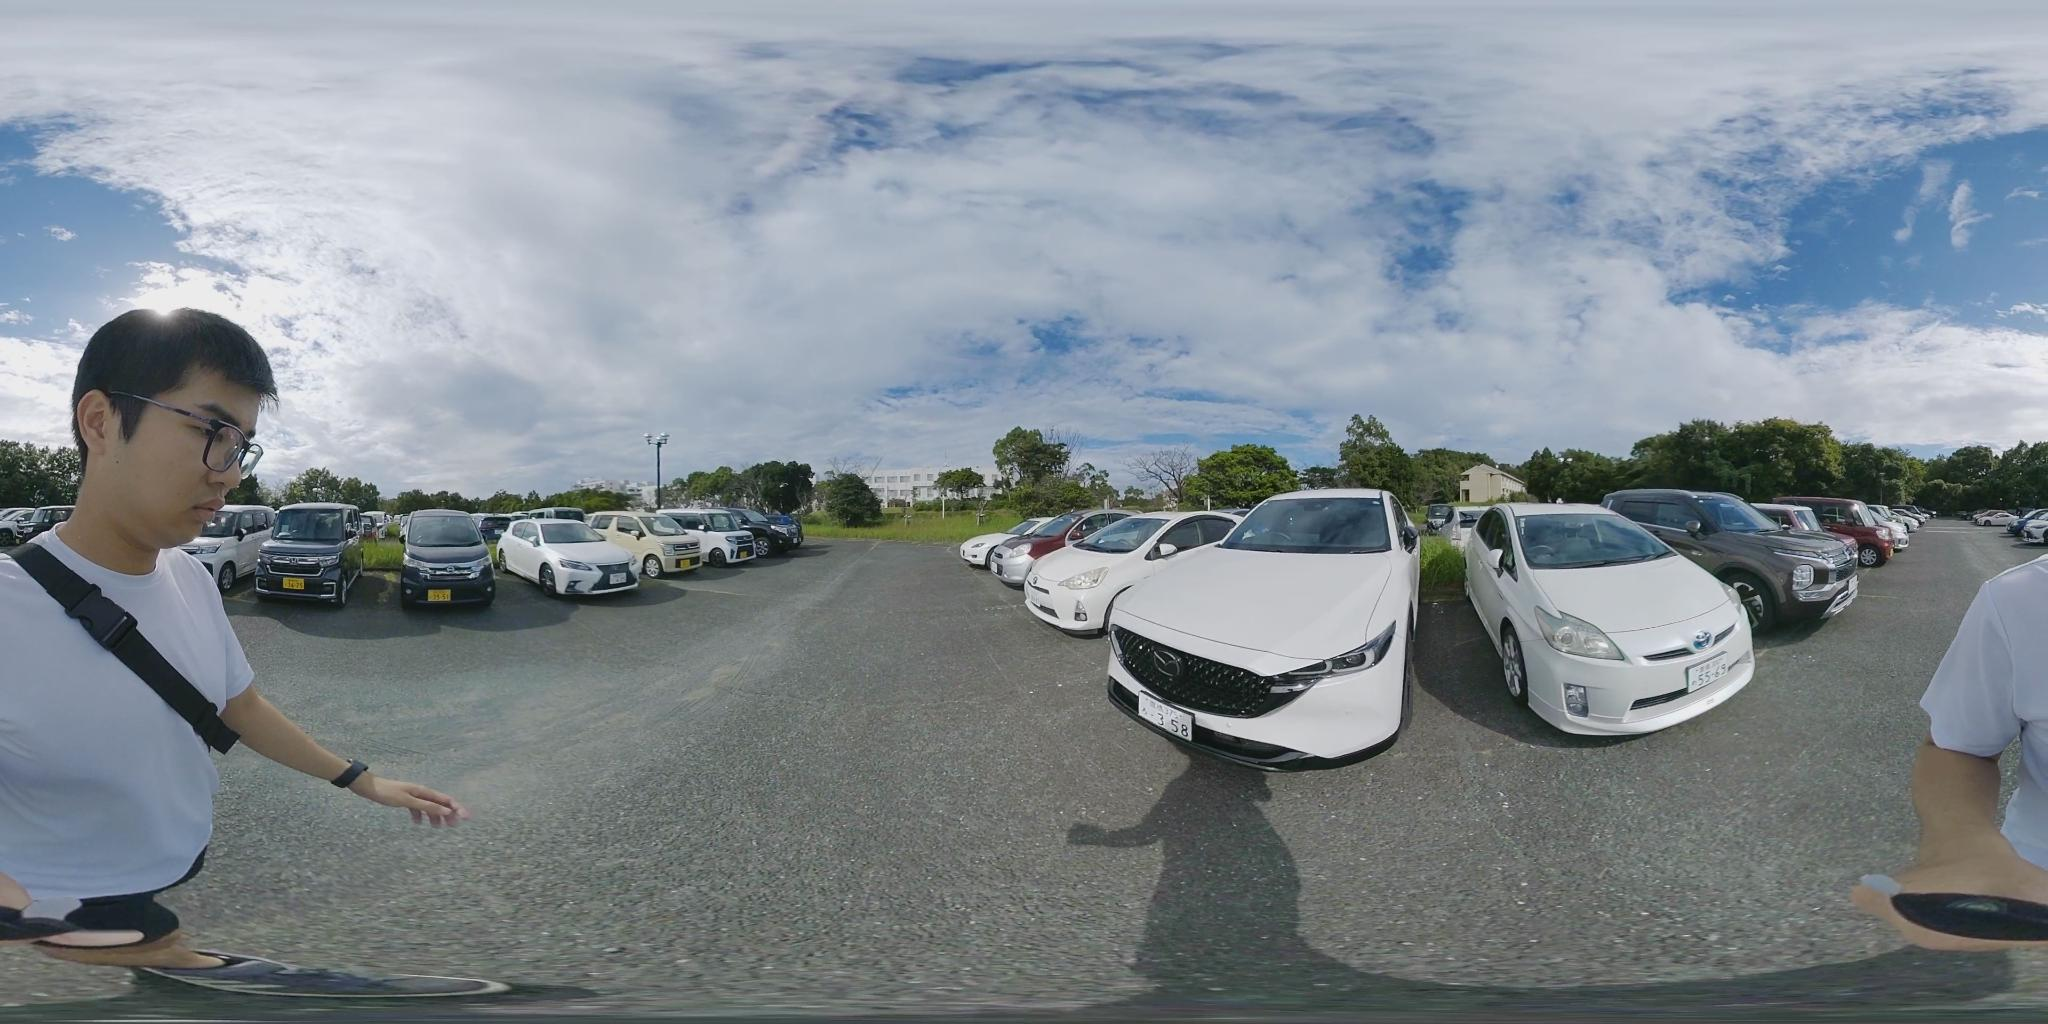car: (1097, 488, 1417, 769), (1445, 499, 1761, 741), (1595, 486, 1861, 637), (1028, 513, 1247, 639), (492, 519, 656, 596), (959, 512, 1122, 579), (396, 513, 508, 607), (1761, 496, 1907, 566), (263, 503, 358, 602), (589, 513, 711, 575), (660, 507, 805, 558), (2011, 512, 2043, 545), (1971, 508, 2017, 525)
